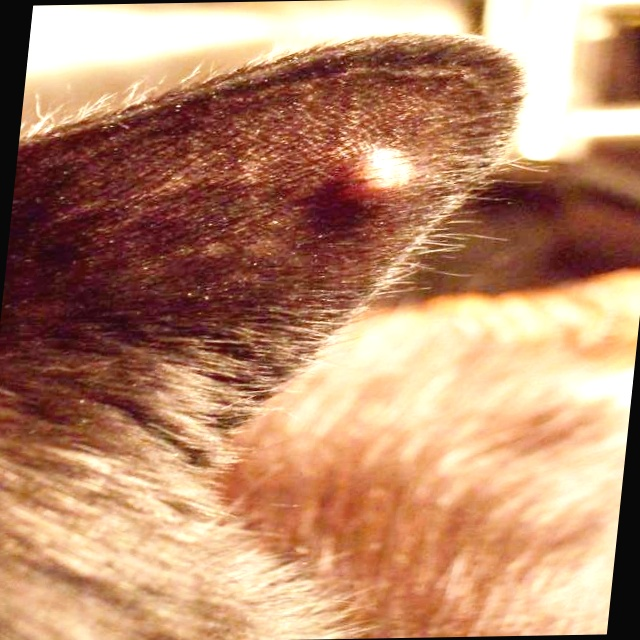lump_and_bump: (353, 148, 421, 209)
